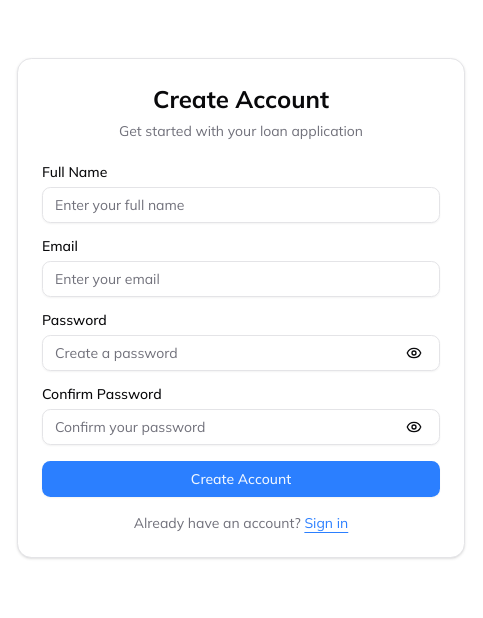
Test: RegisterPage › shows validation errors for empty fields
This screenshot has width=483, height=618.
Click the button "Create Account" at {"x": 241, "y": 479}, box [42,461,440,497]
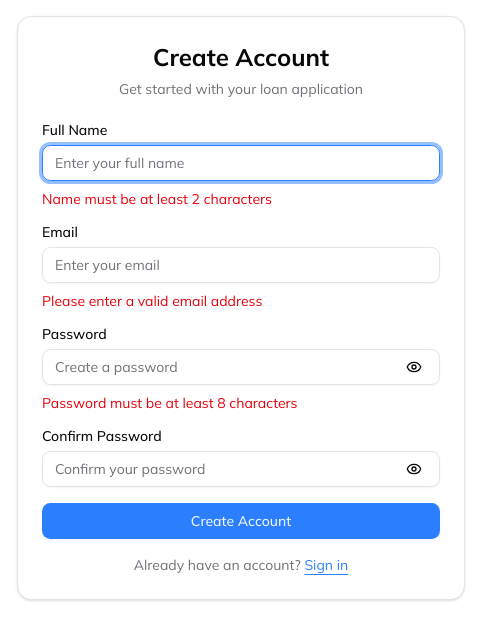
expect the text "Name must be at least 2 characters" is shown: met, box [42,190,272,208]
expect the text "Please enter a valid email address" is shown: met, box [42,292,262,310]
expect the text "Password must be at least 8 characters" is shown: met, box [42,394,298,412]
